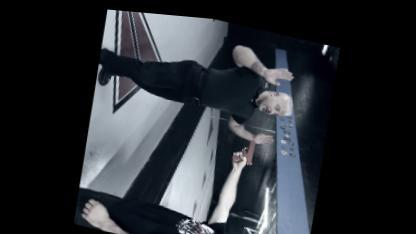pistol: (232, 130, 256, 163)
